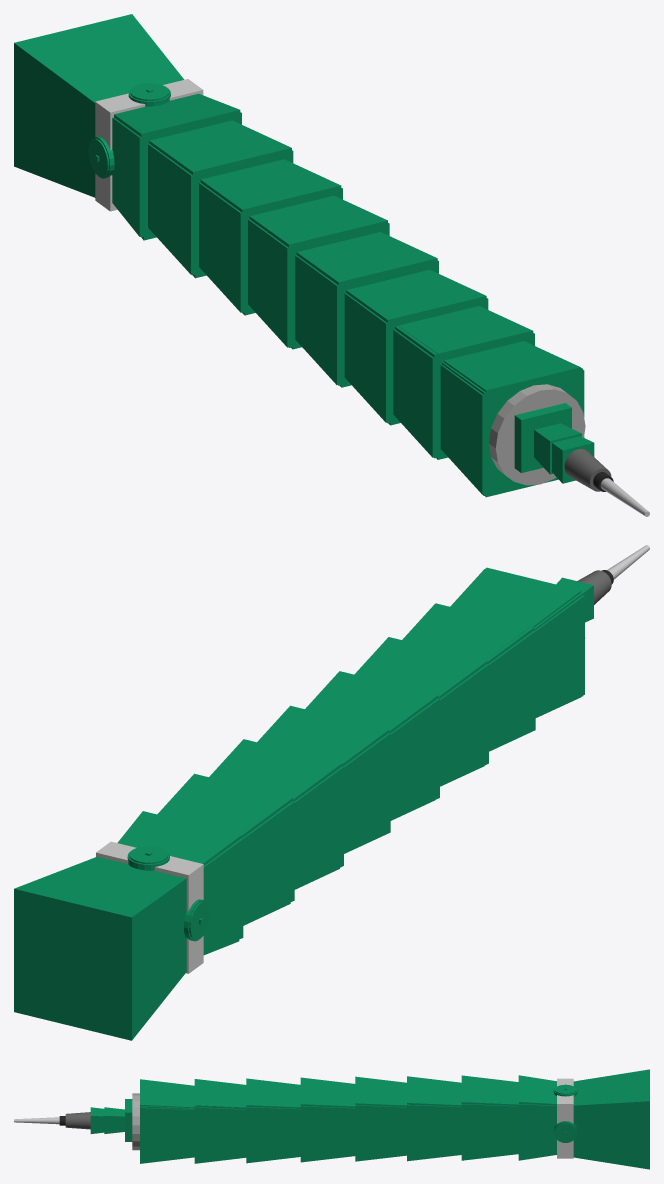
File: tinker.obj
The picture shows the model from 3 angles, top to bottom: view 1: azimuth 30°, elevation 25°; view 2: azimuth 150°, elevation 25°; view 3: azimuth 270°, elevation 25°; orthographic projection. The views are drawn at different scales.
Parts seen in each view (by area): view 1: group_0_497249, group_0_11250603, group_0_13421772, group_0_6710886; view 2: group_0_497249, group_0_13421772; view 3: group_0_497249, group_0_13421772, group_0_11250603, group_0_6710886, group_0_13224393.
Boxes of the visible parts, <box> form: group_0_497249: <box>14,14,594,497</box>; group_0_11250603: <box>489,384,585,485</box>; group_0_13421772: <box>95,79,203,211</box>; group_0_6710886: <box>564,449,611,491</box>; group_0_497249: <box>14,567,593,1040</box>; group_0_13421772: <box>96,841,203,973</box>; group_0_497249: <box>90,1069,649,1169</box>; group_0_13421772: <box>557,1078,573,1158</box>; group_0_11250603: <box>132,1093,139,1150</box>; group_0_6710886: <box>65,1112,90,1129</box>; group_0_13224393: <box>14,1117,59,1124</box>.
Size of the model in its own units: 20 by 20 by 169.
